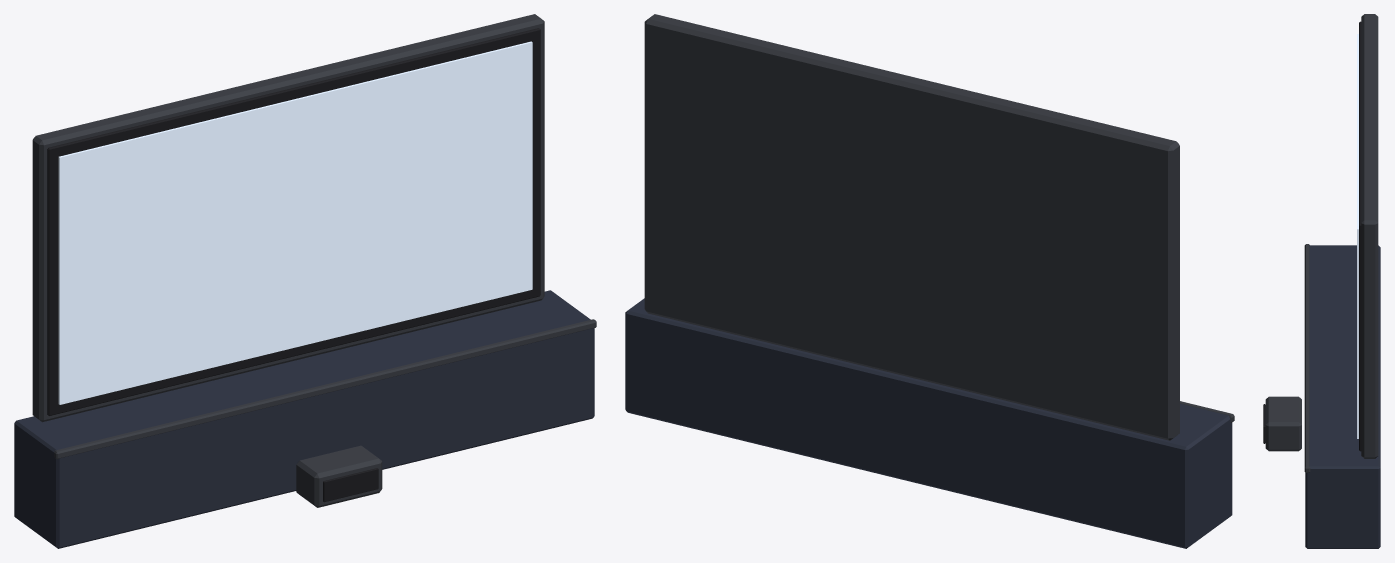
File: screen.glb
3 views of the same model, side by side, from view 1: azimuth 30°, elevation 25°; view 2: azimuth 150°, elevation 25°; view 3: azimuth 270°, elevation 25° (orthographic). The views are drawn at different scales.
Visible parts, largest first — view 1: screen; view 2: screen; view 3: screen.
Boxes of the visible parts, bbox=[...] form: screen: bbox=[14, 14, 596, 548]; screen: bbox=[625, 14, 1234, 548]; screen: bbox=[1263, 14, 1380, 548].
Size of the model in its own units: 4.92 by 3.3 by 1.09.
